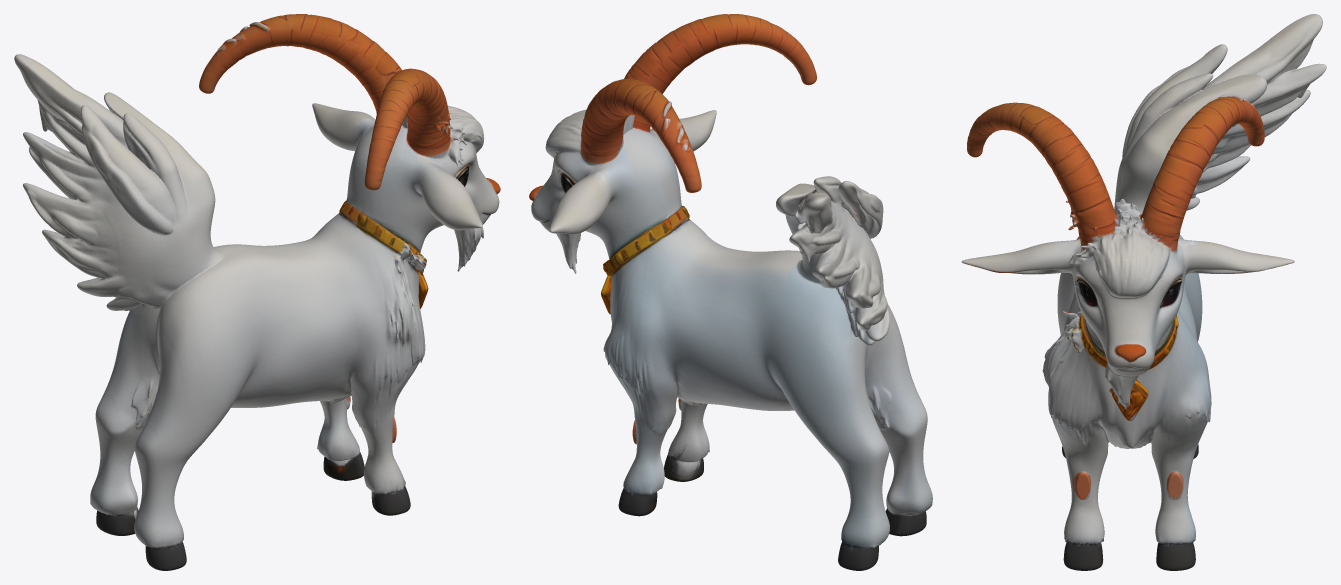
File: angelic_goat_stylized.glb
The picture shows the model from 3 angles, left to right: view 1: azimuth 30°, elevation 25°; view 2: azimuth 150°, elevation 25°; view 3: azimuth 270°, elevation 25°; orthographic projection.
Bounding box in the file's own units: 0.9328 × 1 × 0.7359.
Materials: 1 (1 with a texture image).
